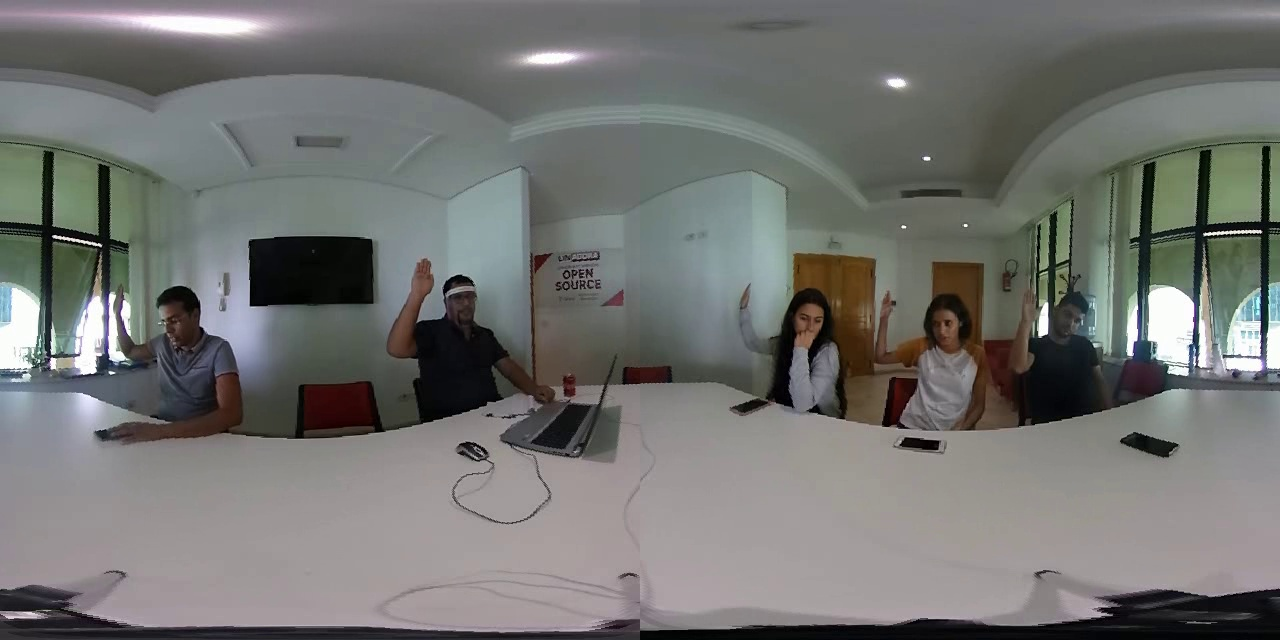person: (373, 259, 557, 420), (95, 277, 259, 445), (725, 278, 856, 416), (869, 287, 994, 427), (1009, 279, 1126, 423)
voting: (379, 258, 434, 356), (98, 279, 150, 369), (727, 285, 779, 363), (1006, 286, 1047, 374), (878, 292, 919, 375)
